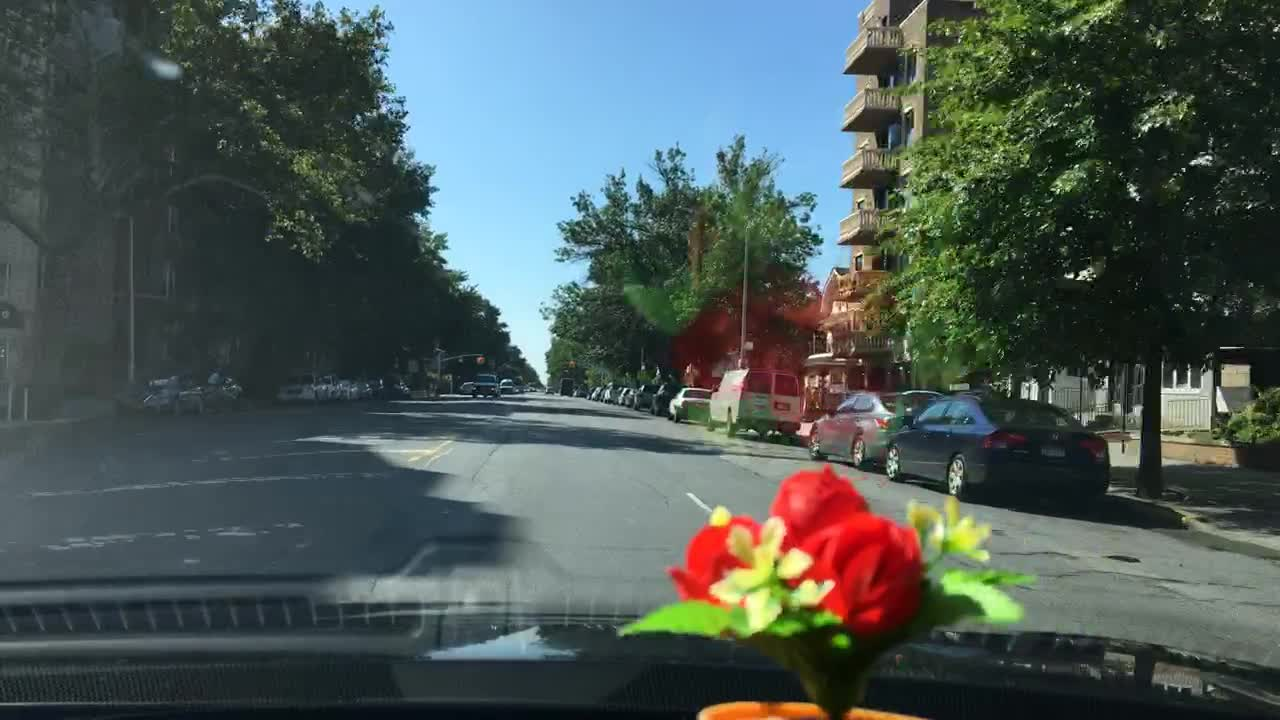car: (887, 390, 1110, 510), (809, 393, 905, 469), (708, 369, 802, 436), (669, 386, 715, 422), (146, 375, 180, 415), (273, 373, 317, 403), (180, 376, 208, 414), (213, 370, 242, 405), (652, 381, 680, 416), (470, 373, 502, 398), (314, 369, 337, 401), (635, 383, 658, 411), (338, 377, 354, 401), (355, 377, 372, 399), (604, 381, 620, 402), (620, 386, 636, 405), (393, 375, 409, 392), (370, 376, 383, 395), (499, 375, 511, 393), (559, 379, 574, 393), (575, 381, 587, 398), (459, 381, 474, 393), (511, 381, 522, 393), (592, 386, 602, 399), (586, 385, 596, 397), (544, 382, 553, 393), (529, 381, 536, 392), (522, 381, 529, 392), (479, 352, 485, 363)
traffic sign: (742, 340, 754, 351)
